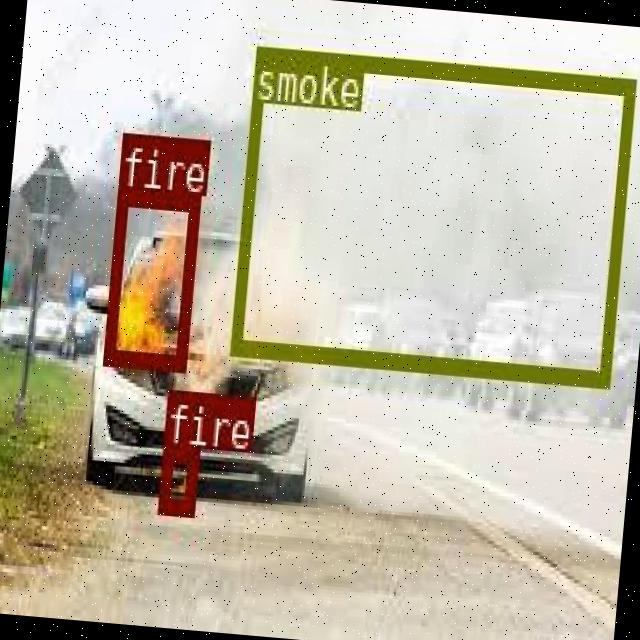fire: (100, 186, 198, 366), (156, 444, 198, 512)
smoke: (229, 45, 633, 384)
